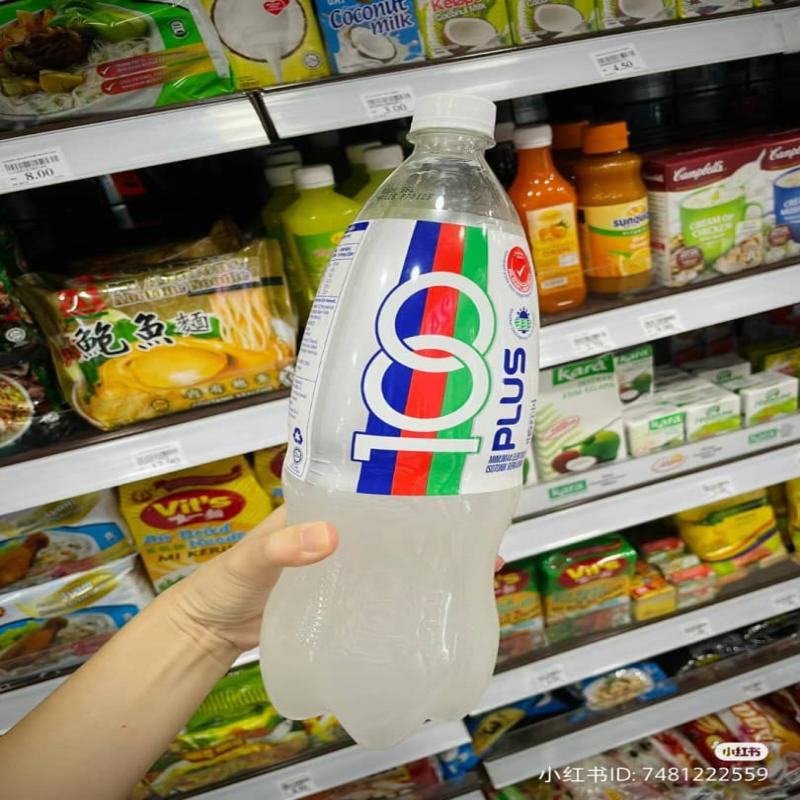botella: (277, 97, 534, 722)
